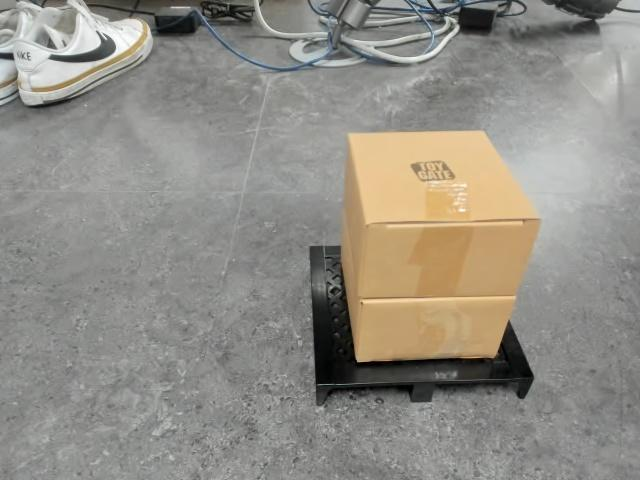box: (309, 131, 545, 407)
